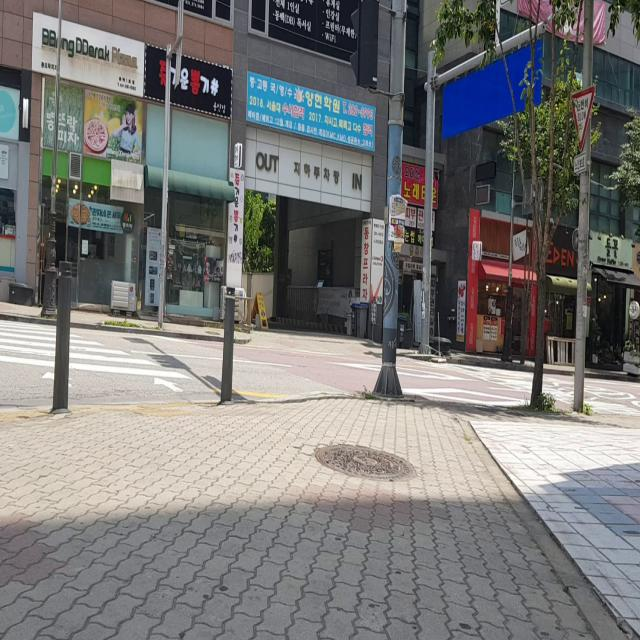횡단보도: (0, 318, 193, 394)
